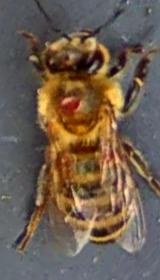varroa_mite: (53, 84, 84, 120)
